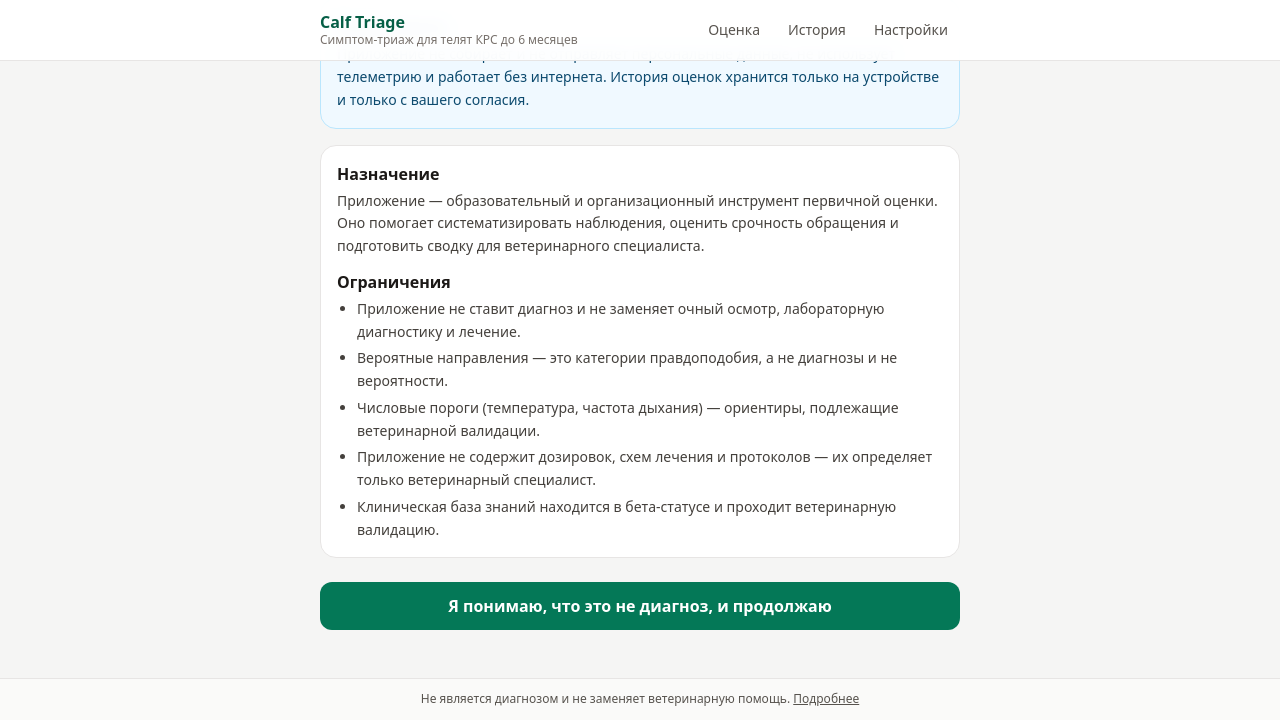
App smoke tests › moves to the age step after acknowledging the disclaimer
(page scrolled)
Click the button "Я понимаю, что это не диагноз, и продолжаю" at (640, 606), box [320,582,960,630]
(page scrolled)
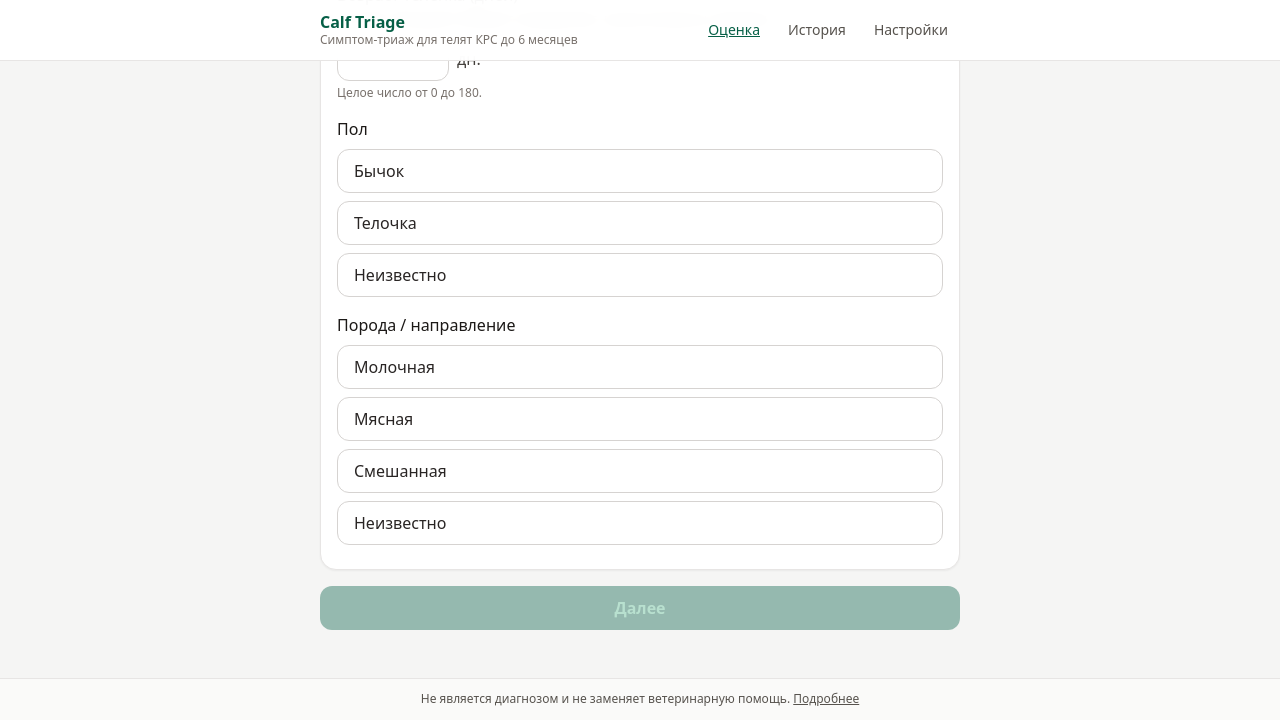
Now the number field named "Возраст теленка" is shown, box [337,37,449,81]
